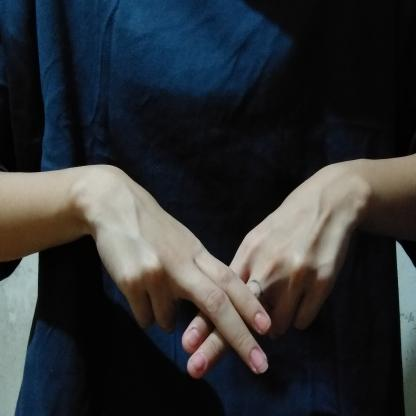father: (70, 154, 381, 396)
